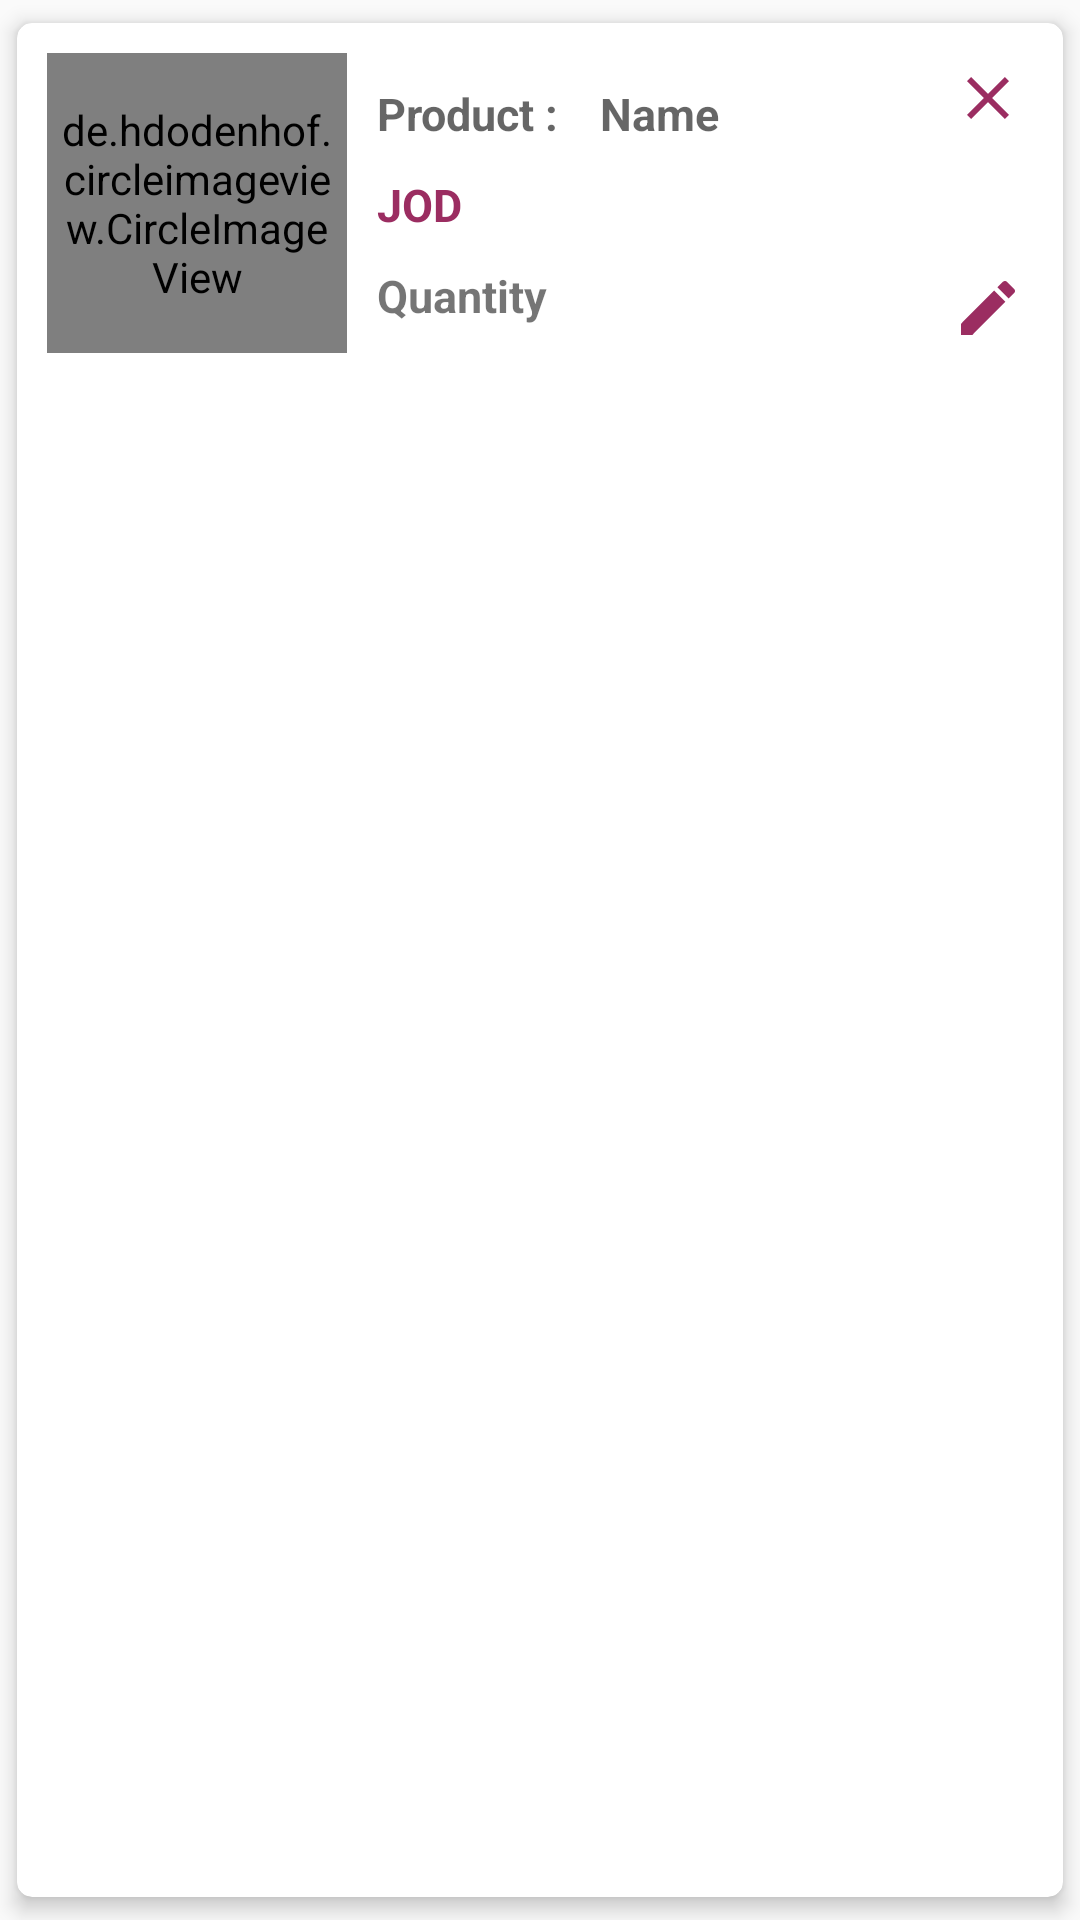

Icon bounding boxes for this 1080px×1920px phone screenshot, format (x1, y1, x2, y2):
delete: (967, 77, 1009, 119)
edit: (961, 281, 1015, 335)
